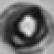correct: (0, 2, 54, 48)
